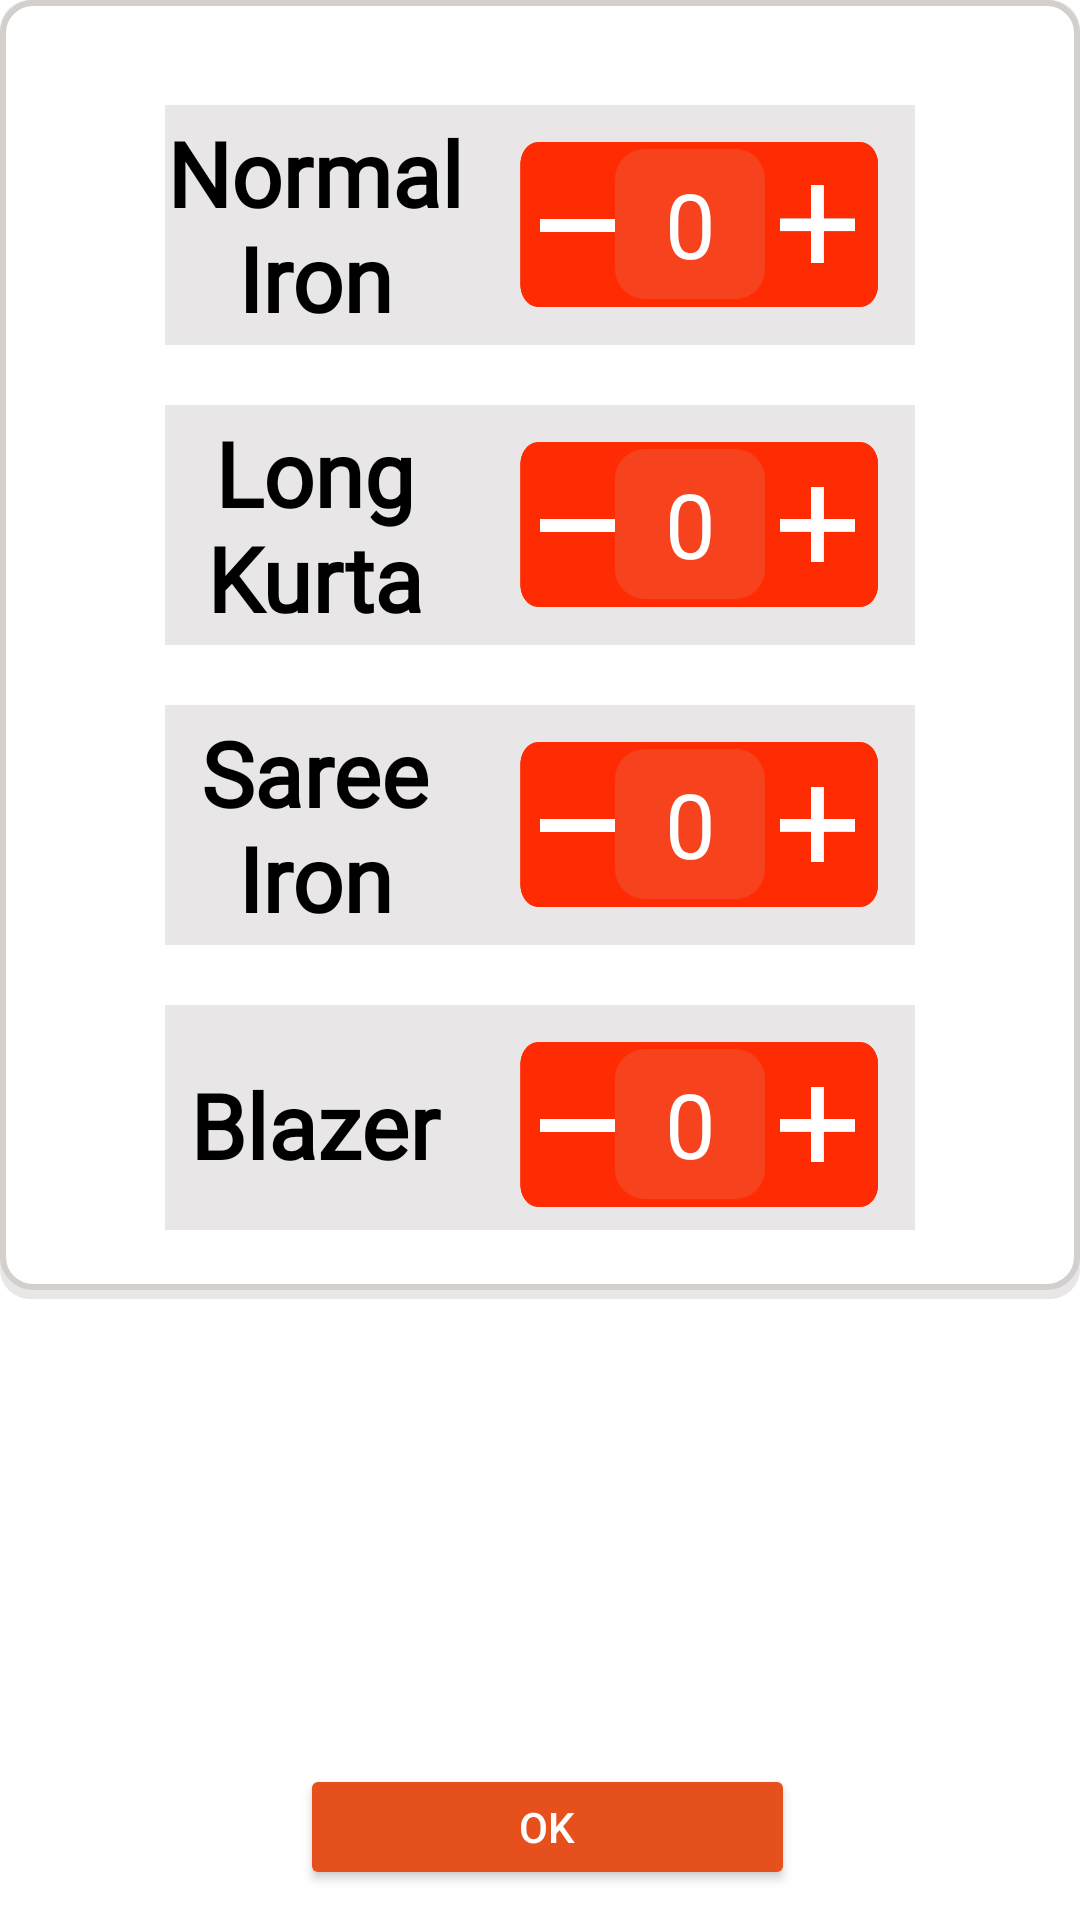

Where to tap for icons on this 1080x1920 app screen, as point (x, y):
plus: point (817, 224), point (817, 524), point (817, 824), point (817, 1124)
